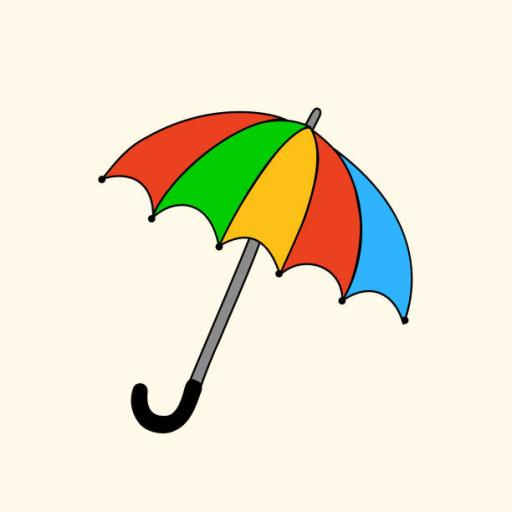guarda_chuva: (97, 105, 413, 433)
